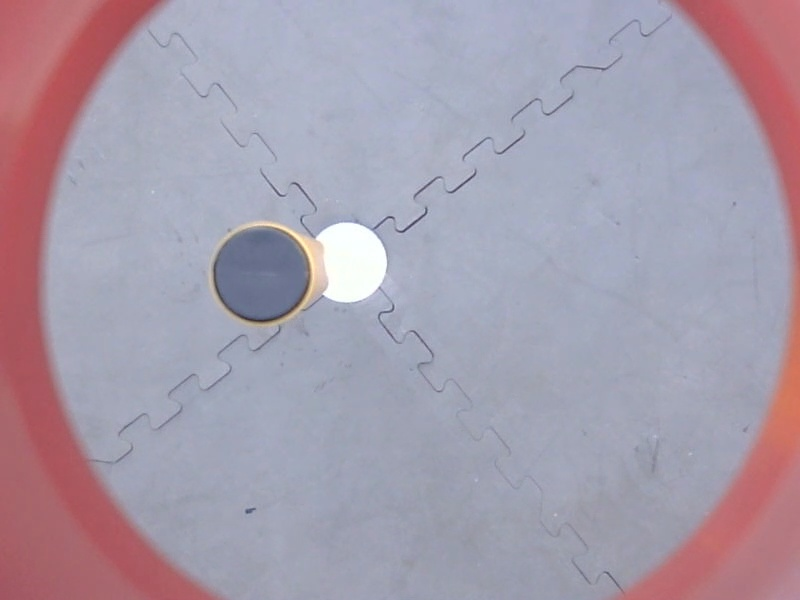tip: (200, 218, 320, 331)
